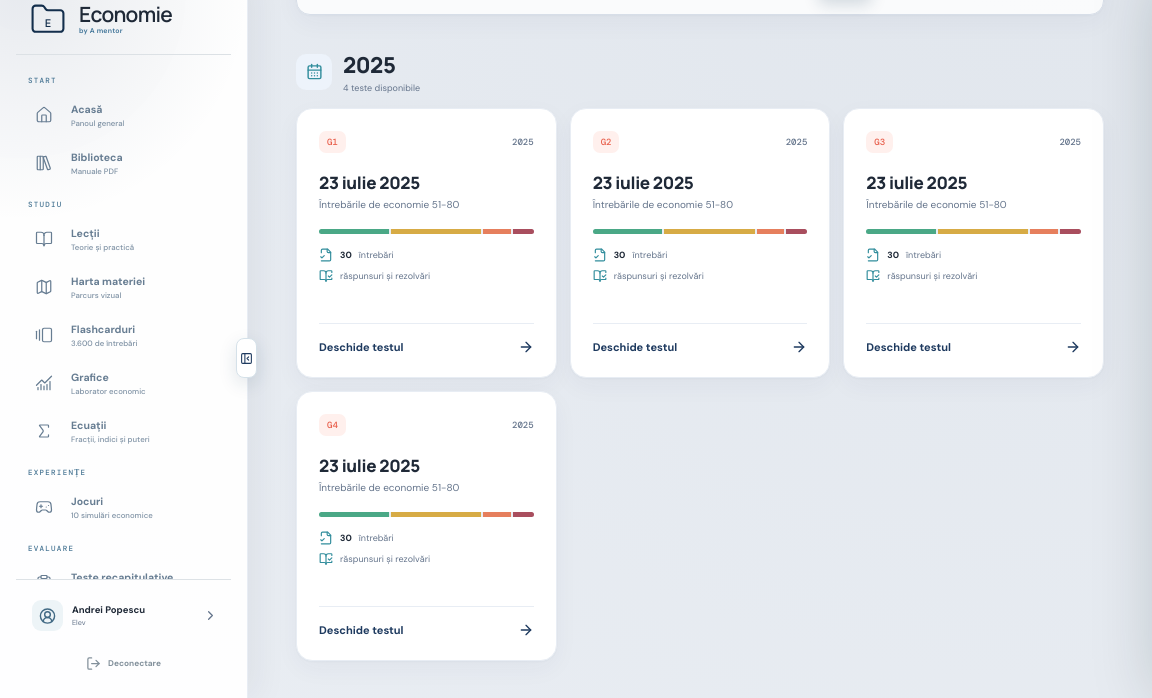
Test case: application flow › opens the admission archive from the sidebar and loads a complete test
Earlier steps of the test are not shown.
(page scrolled)
Click the 1st button with class "admission-open-button" at x=426, y=339, box x1=319 y1=323 x2=534 y2=355
(page scrolled)
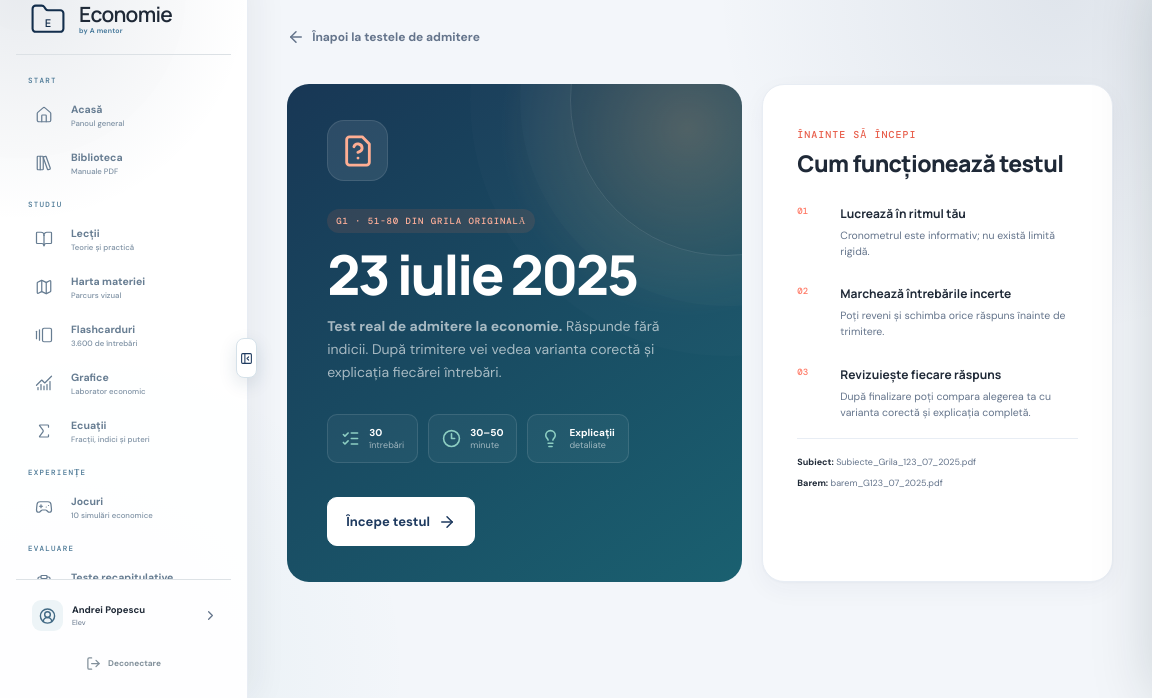
Expected: the heading "23 iulie 2025" is shown, x1=327 y1=247 x2=637 y2=302
Expected: the text "Test real de admitere la economie." is shown, x1=327 y1=317 x2=562 y2=335
Expected: the text "Subiecte_Grila_123_07_2025.pdf" is shown, x1=836 y1=456 x2=976 y2=468
